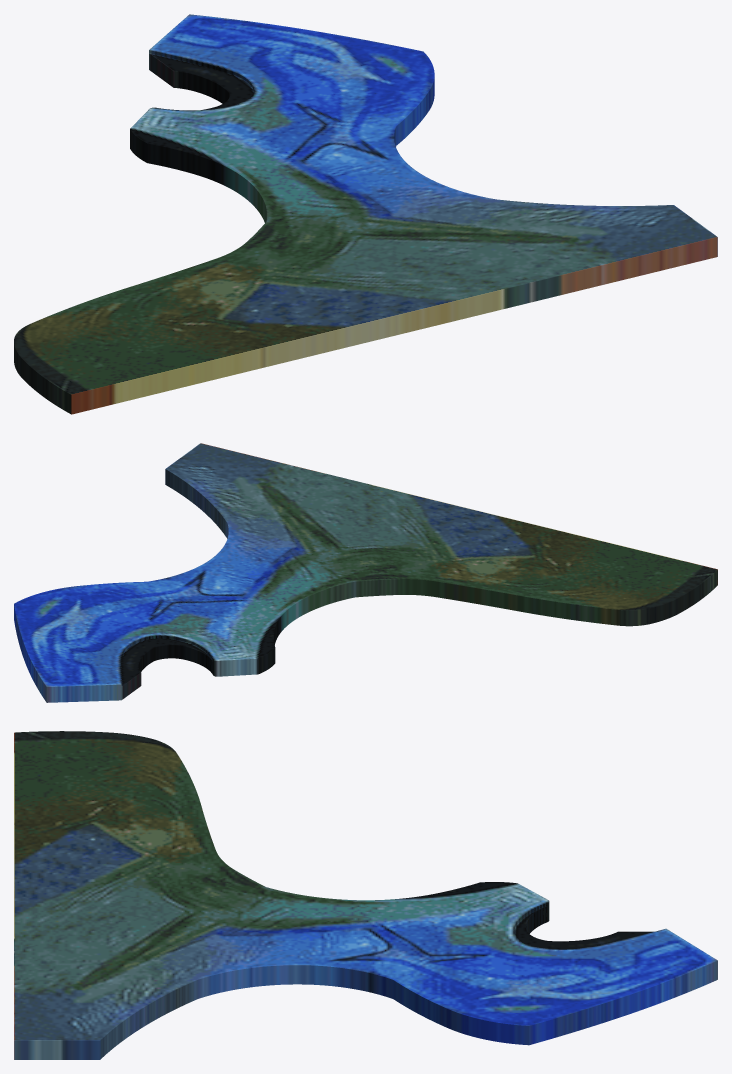
The model's file is el hombre y la quimica 4.dae.
3 views of the same model, one above another, from view 1: azimuth 30°, elevation 25°; view 2: azimuth 150°, elevation 25°; view 3: azimuth 270°, elevation 25° (orthographic). The views are drawn at different scales.
Visible parts, largest first — view 1: SketchUp; view 2: SketchUp; view 3: SketchUp.
Boxes of the visible parts, left/top/right/bottom form: SketchUp: left=14, top=14, right=717, bottom=414; SketchUp: left=14, top=443, right=717, bottom=702; SketchUp: left=14, top=731, right=717, bottom=1059.
Bounding box in the file's own units: 40.97 × 39.39 × 1.19.
